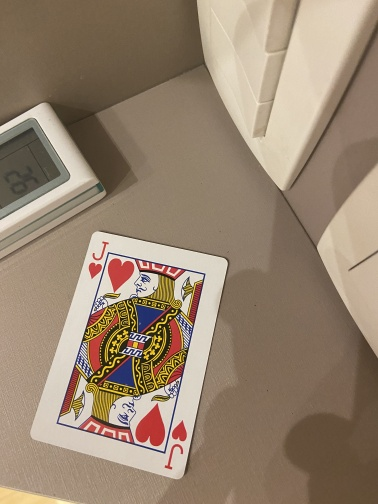jack: (28, 228, 231, 481)
